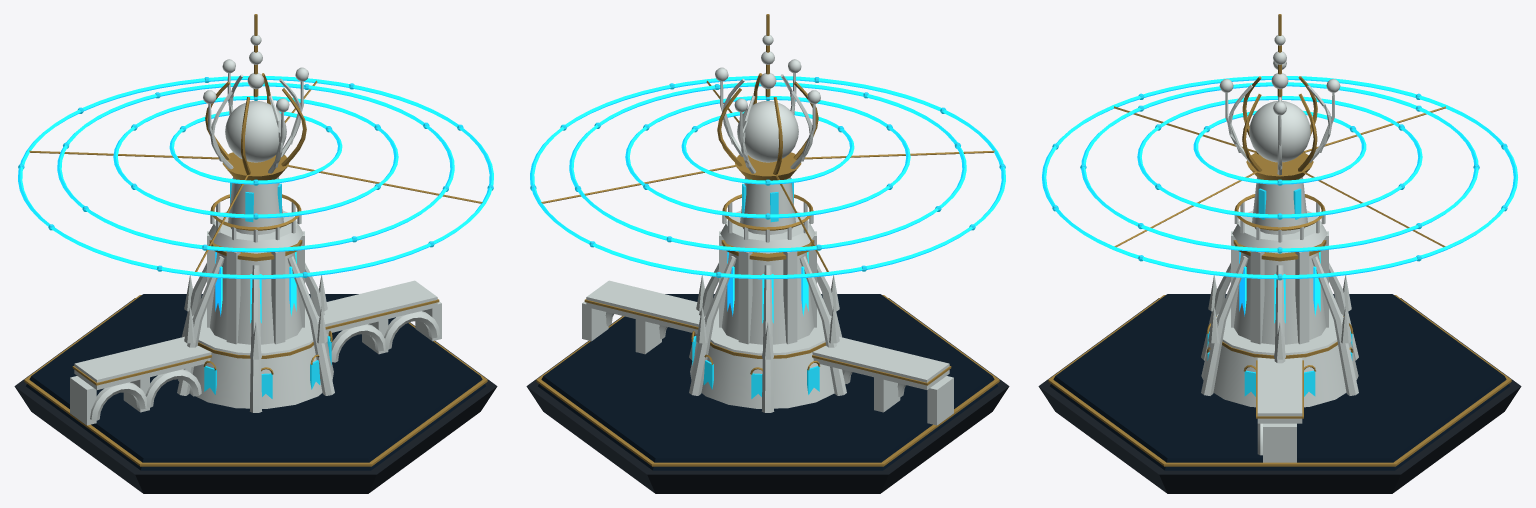
File: poseidon_sonar_beacon.glb
3 views of the same model, side by side, from view 1: azimuth 30°, elevation 25°; view 2: azimuth 150°, elevation 25°; view 3: azimuth 270°, elevation 25° (orthographic).
Visible parts, largest first — view 1: poseidon_sonar_beacon; view 2: poseidon_sonar_beacon; view 3: poseidon_sonar_beacon.
Boxes of the visible parts, x1=… form: poseidon_sonar_beacon: x1=14, y1=14, x2=497, y2=493; poseidon_sonar_beacon: x1=526, y1=14, x2=1009, y2=493; poseidon_sonar_beacon: x1=1038, y1=14, x2=1521, y2=493.
Bounding box in the file's own units: 1.7 × 1.56 × 1.72.
1 material, 1 textured.
